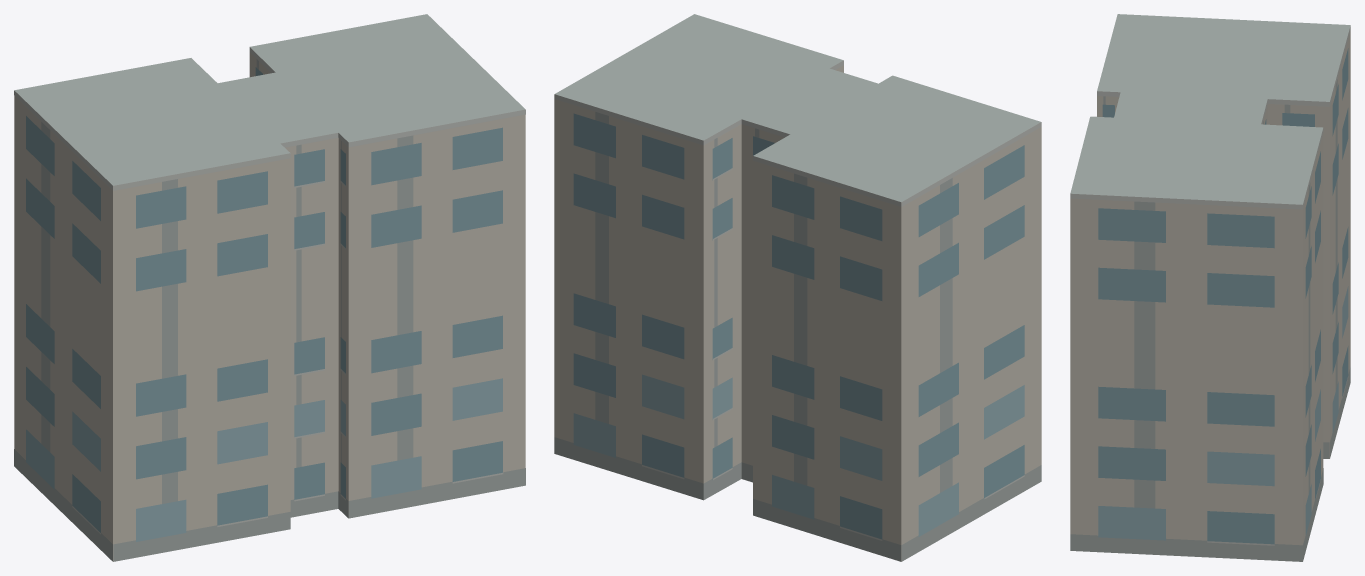
File: survey-upis-33038906.glb
3 views of the same model, side by side, from view 1: azimuth 30°, elevation 25°; view 2: azimuth 150°, elevation 25°; view 3: azimuth 270°, elevation 25° (orthographic). The views are drawn at different scales.
Visible parts, largest first — view 1: survey-upis-33038906.tmp; view 2: survey-upis-33038906.tmp; view 3: survey-upis-33038906.tmp.
Part boxes in pixels (left/top/right/bottom): survey-upis-33038906.tmp: left=14, top=14, right=525, bottom=561; survey-upis-33038906.tmp: left=554, top=14, right=1041, bottom=561; survey-upis-33038906.tmp: left=1070, top=14, right=1350, bottom=561.
Bounding box in the file's own units: 20.98 × 18.3 × 13.03.
